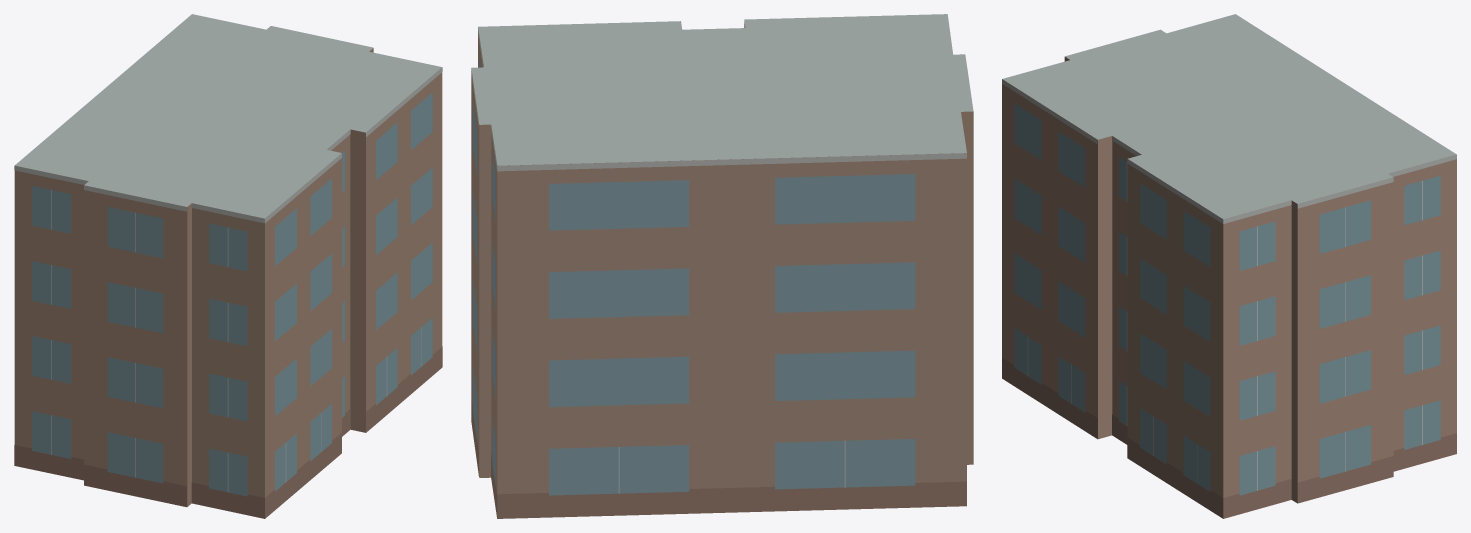
Rendered from survey-upis-32780359.glb.
3 renders of one model, left to right at view 1: azimuth 30°, elevation 25°; view 2: azimuth 150°, elevation 25°; view 3: azimuth 270°, elevation 25°, orthographic. The views are drawn at different scales.
Parts seen in each view (by area): view 1: survey-upis-32780359.tmp; view 2: survey-upis-32780359.tmp; view 3: survey-upis-32780359.tmp.
Part boxes in pixels (x1,y1,x2,y2): survey-upis-32780359.tmp: (14,14,442,518); survey-upis-32780359.tmp: (471,14,973,518); survey-upis-32780359.tmp: (1002,14,1456,518).
Bounding box in the file's own units: 22.65 × 15.4 × 21.2.
